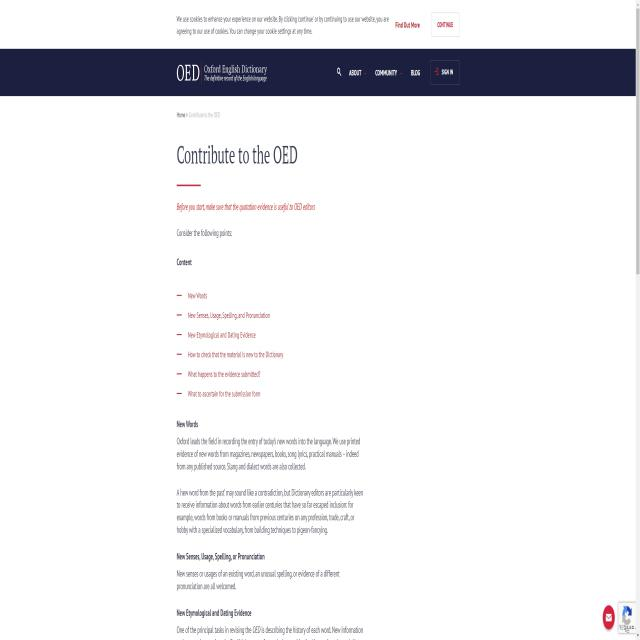tab-bar: (332, 52, 465, 90)
